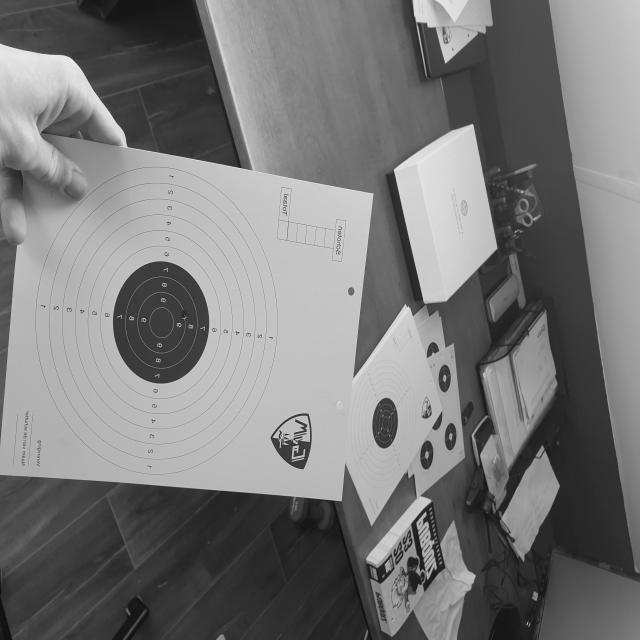9: (180, 310, 189, 321)
Target: (34, 166, 278, 476)
black_contour: (113, 260, 210, 384)
